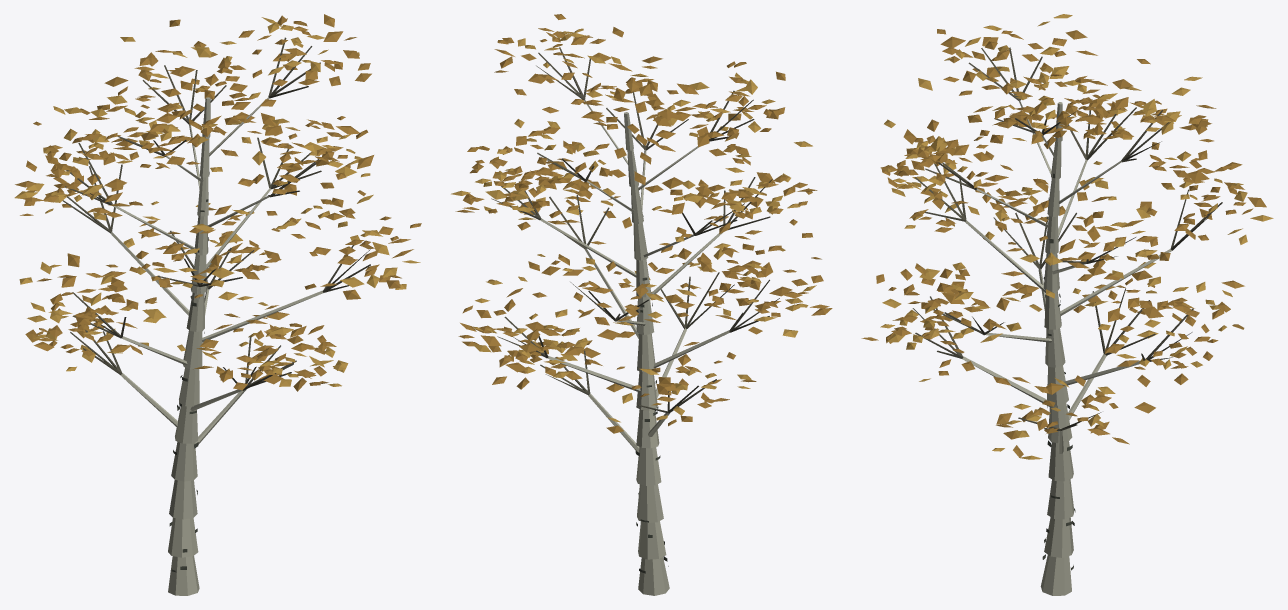
Rendered from birch_amber.glb.
3 views of the same model, side by side, from view 1: azimuth 30°, elevation 25°; view 2: azimuth 150°, elevation 25°; view 3: azimuth 270°, elevation 25° (orthographic). The views are drawn at different scales.
Visible parts, largest first — view 1: birch_amber; view 2: birch_amber; view 3: birch_amber.
Part boxes in pixels (left/top/right/bottom): birch_amber: left=14, top=14, right=421, bottom=595; birch_amber: left=451, top=14, right=832, bottom=595; birch_amber: left=861, top=14, right=1273, bottom=595.
Bounding box in the file's own units: 2.54 × 3.79 × 2.51.
